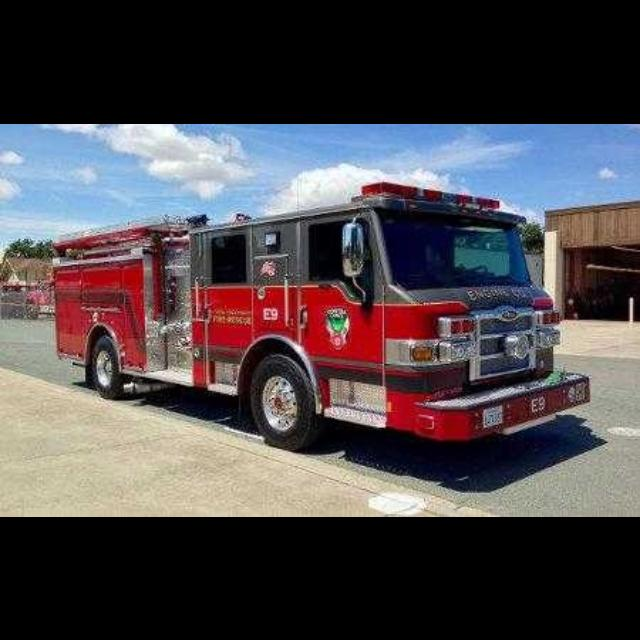emergency: (51, 180, 591, 452)
